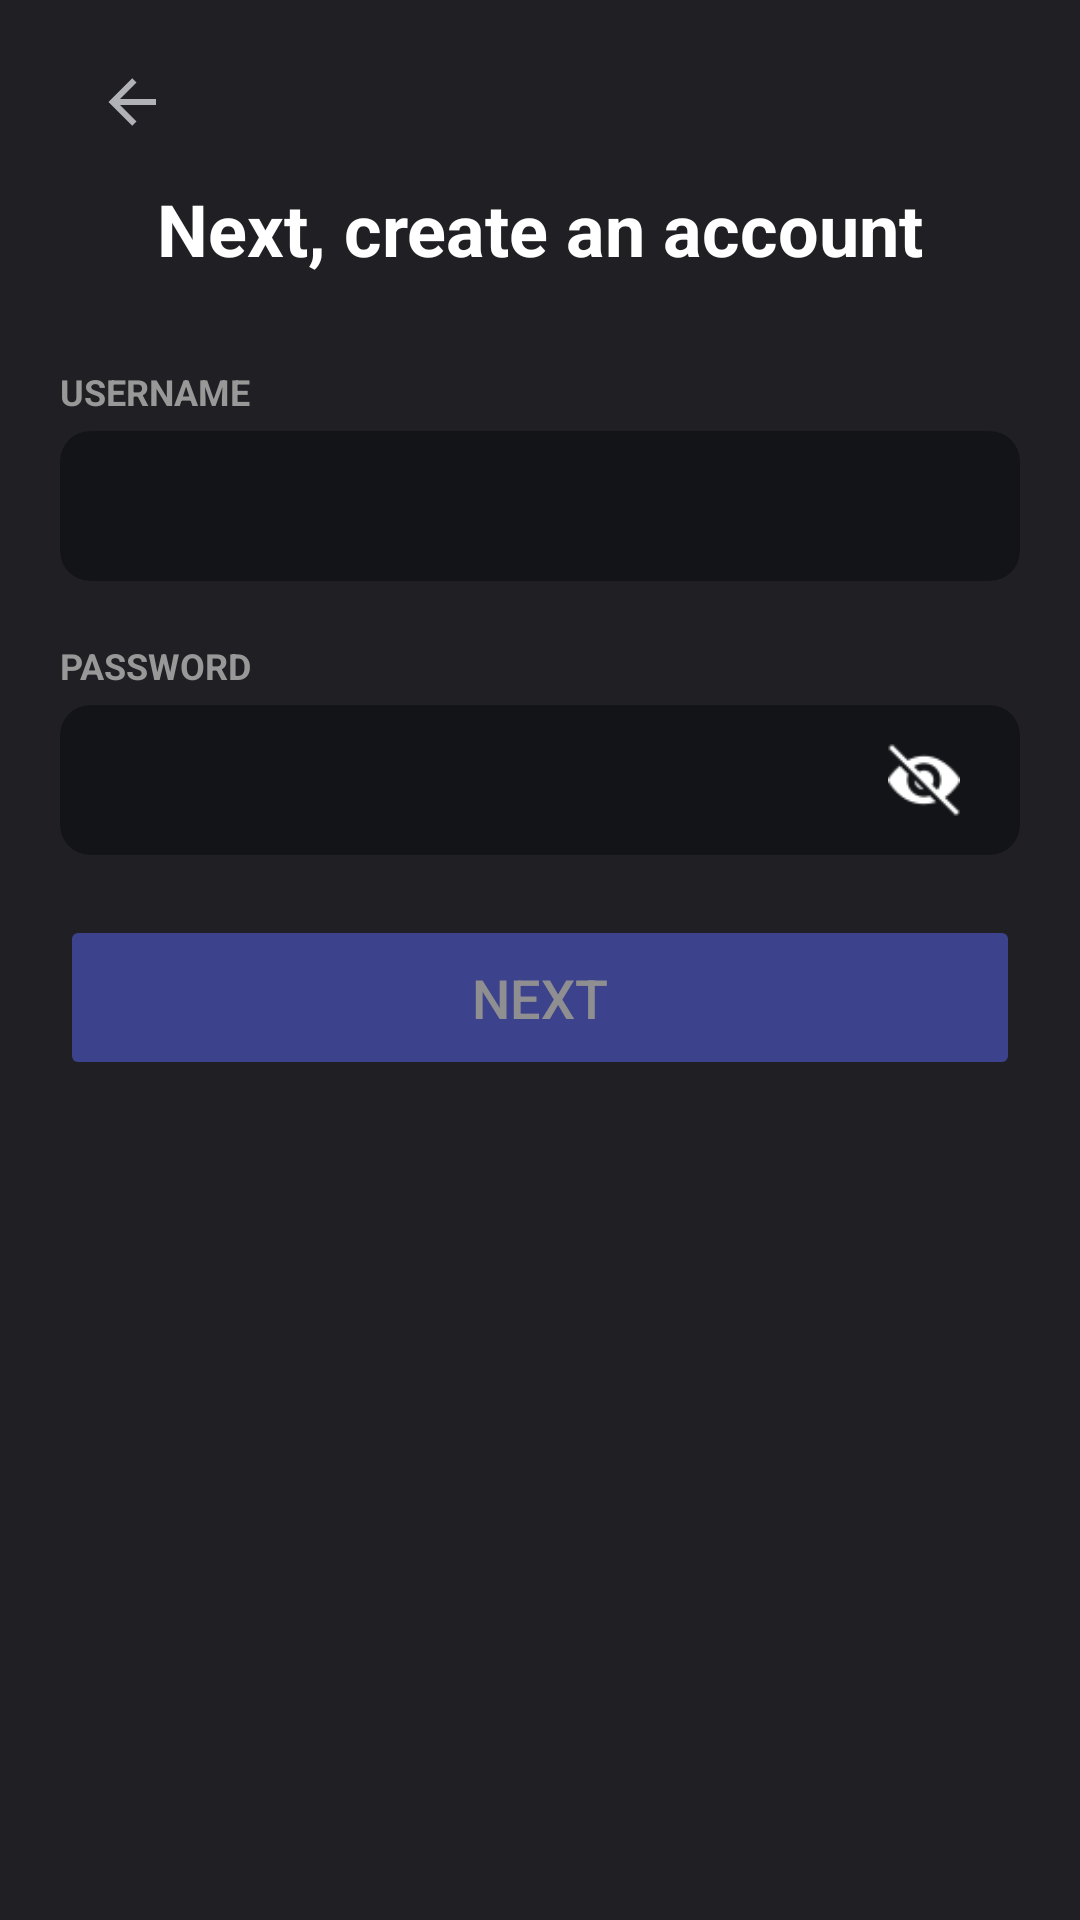

Where icons sit on this 1080*1920 app screen, as [x1, y1, x2, y2]:
Back: [109, 78, 156, 126]
Toggle password visibility: [888, 744, 960, 816]
